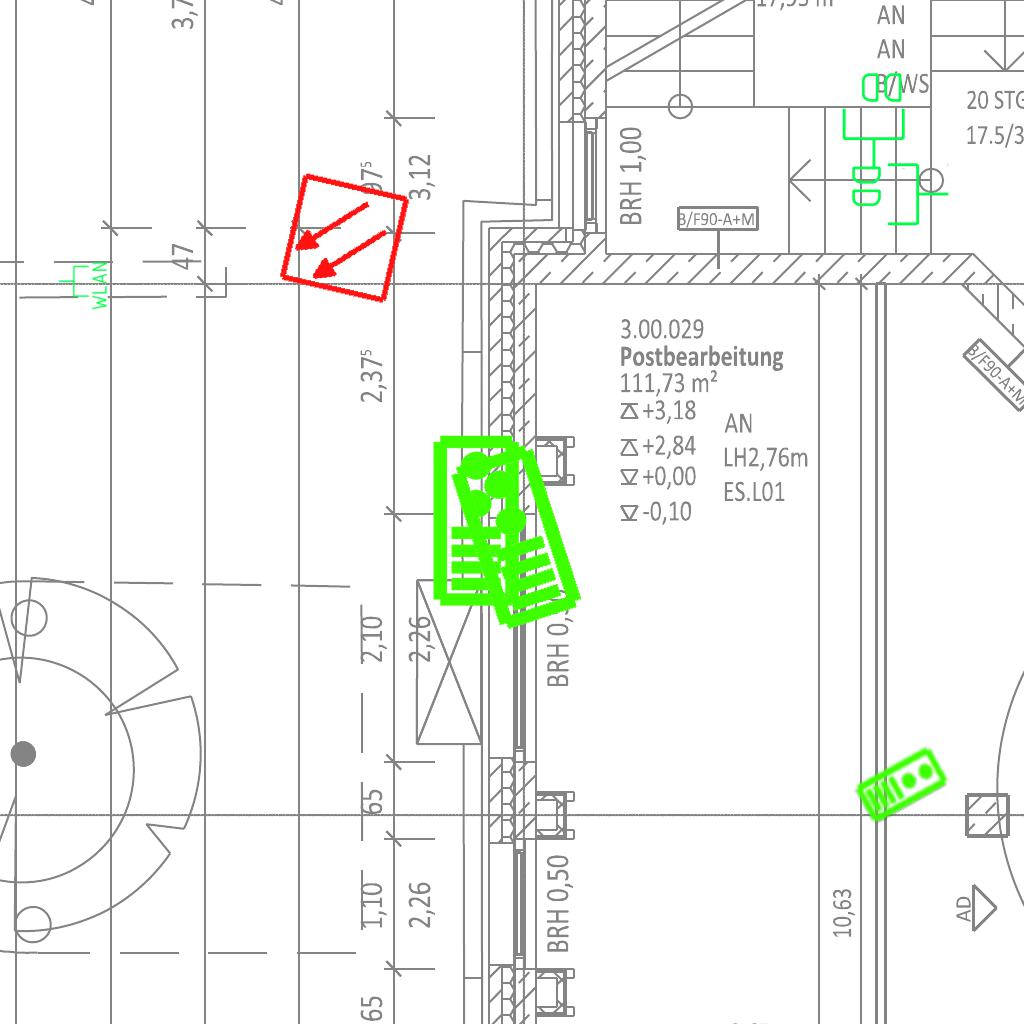Datenanschluss_zweifach: (840, 69, 909, 172), (848, 159, 951, 228)
Gegensprechanlage_mit_Video: (442, 438, 587, 636), (427, 432, 522, 608), (851, 742, 952, 826)
RMO_Rauchmelder_optischer: (276, 170, 413, 307)
WLAN: (57, 260, 109, 312)
